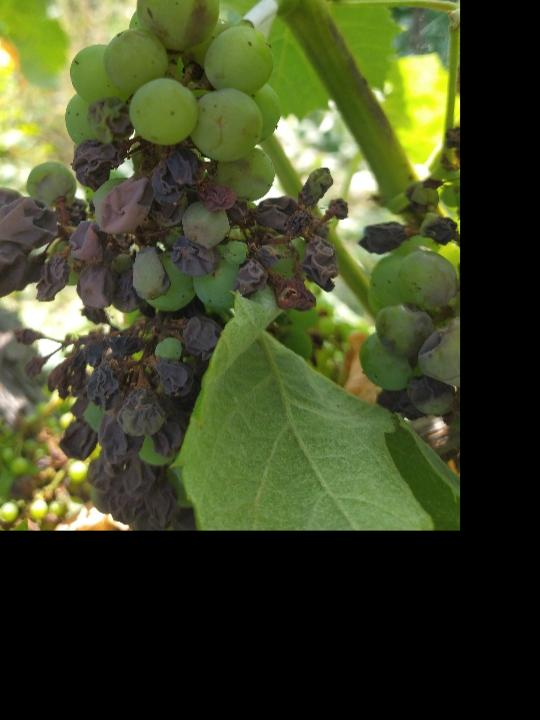grape: (0, 0, 349, 526)
